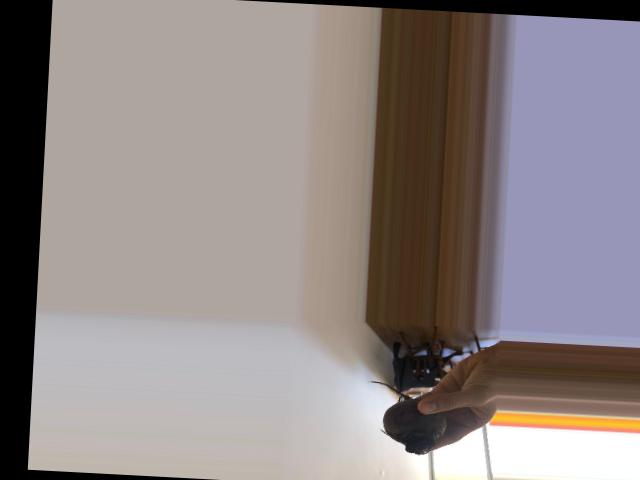beet: (363, 380, 448, 455)
